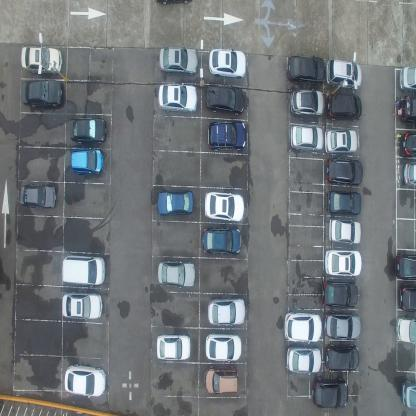car: (63, 364, 106, 398), (59, 257, 107, 287), (202, 190, 243, 223), (204, 84, 244, 117), (205, 121, 246, 153), (158, 47, 200, 78), (283, 312, 321, 346), (205, 297, 244, 330), (157, 85, 199, 115), (21, 78, 63, 108), (21, 44, 63, 74), (208, 47, 248, 78), (155, 260, 194, 291), (286, 54, 326, 84), (199, 227, 240, 256), (61, 291, 102, 320), (326, 57, 362, 90), (203, 335, 241, 365), (326, 158, 364, 188), (68, 116, 108, 144), (312, 379, 348, 410), (327, 91, 363, 122), (202, 368, 238, 398), (288, 88, 325, 117), (324, 250, 362, 278), (324, 314, 362, 342), (288, 123, 324, 152), (324, 345, 360, 374), (20, 182, 57, 210), (326, 128, 362, 156), (322, 282, 358, 310), (284, 349, 320, 376), (154, 336, 189, 363), (156, 192, 192, 218), (329, 219, 362, 246), (70, 148, 104, 174), (327, 191, 362, 216), (394, 252, 416, 281), (396, 316, 416, 344), (396, 97, 416, 124), (398, 283, 416, 313), (400, 378, 416, 411), (398, 66, 416, 95), (398, 131, 416, 159), (403, 163, 415, 186)
